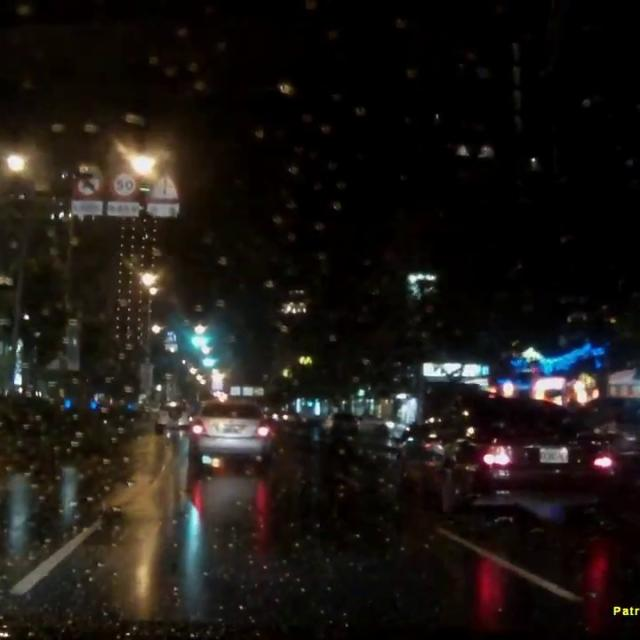Car: (394, 401, 616, 514), (188, 399, 271, 470), (155, 399, 192, 431), (321, 409, 361, 438)
